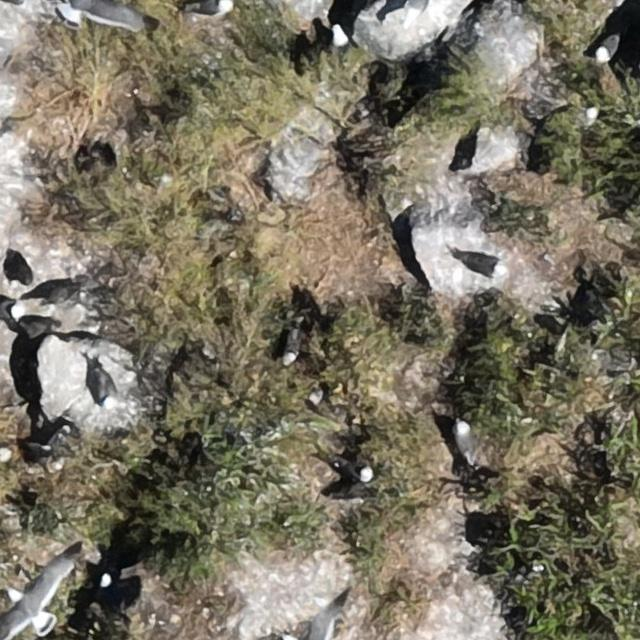F: (6, 569, 73, 640)
umineko: (456, 422, 477, 462), (462, 255, 501, 276), (340, 461, 370, 480), (284, 329, 301, 362), (595, 37, 617, 61), (192, 0, 228, 14), (98, 376, 114, 406), (332, 24, 347, 48), (582, 107, 596, 127)
